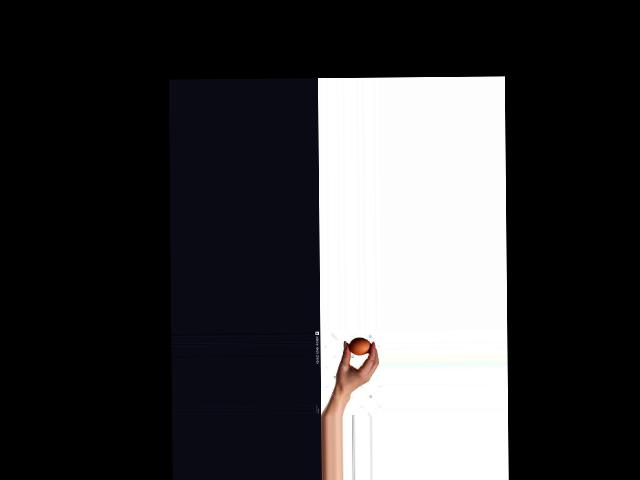egg: (348, 337, 370, 356)
